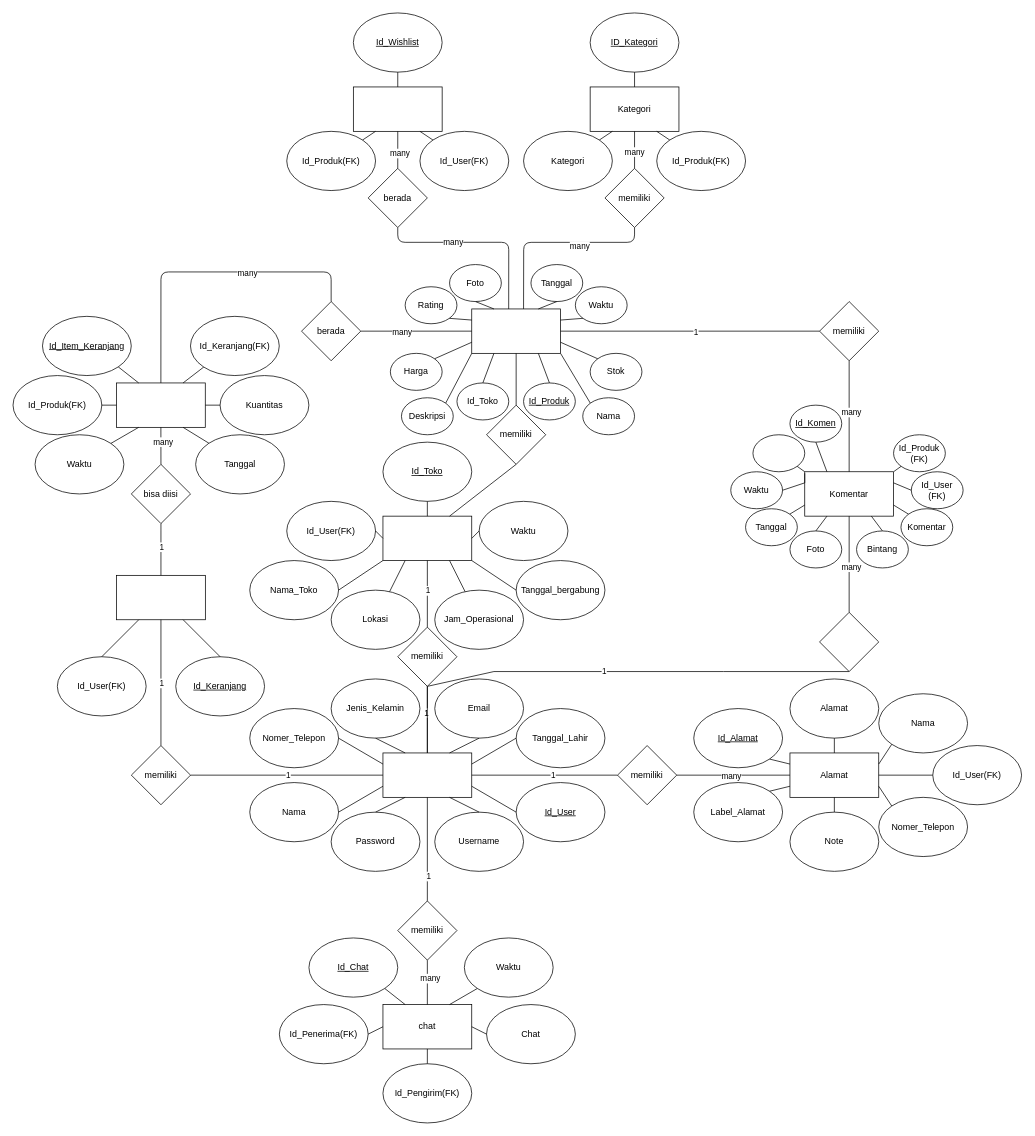
Image size: 1035x1136. Some labels were removed from this diagram. Each missing label, with the centre of its shape:
Account: (427,774)
bisa: (849,642)
Id_parent (FK): (778,453)
Item_Keranjang: (160,404)
Keranjang: (160,597)
Produk: (516,330)
Toko: (427,538)
Wishlist: (397,108)
